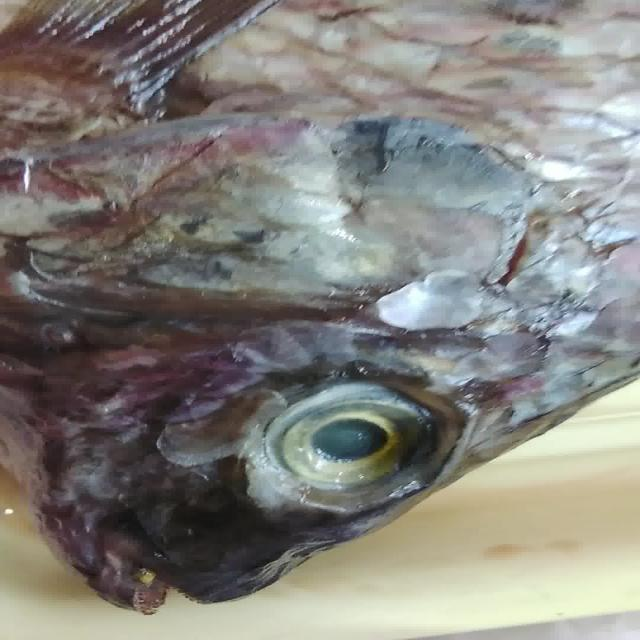Non-Fresh: (219, 371, 492, 526)
